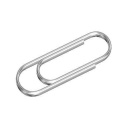Metal: (9, 22, 116, 112)
